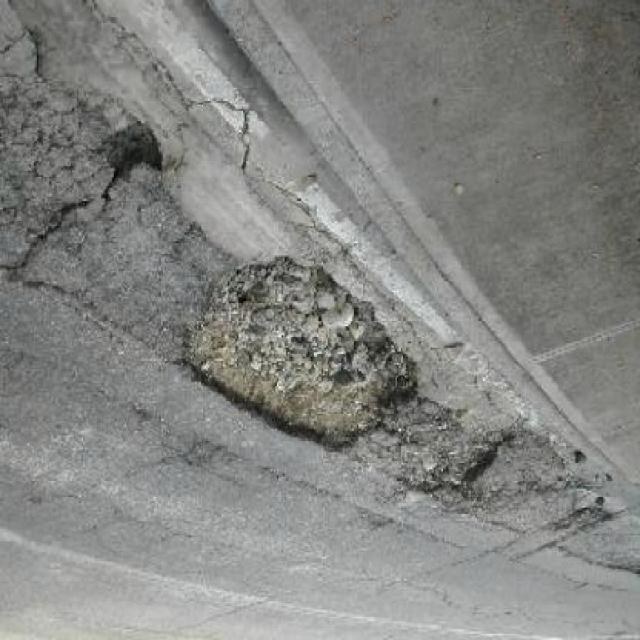pothole1: (178, 251, 427, 464), (397, 427, 520, 504), (101, 122, 168, 186), (553, 486, 615, 536), (606, 549, 639, 583)
